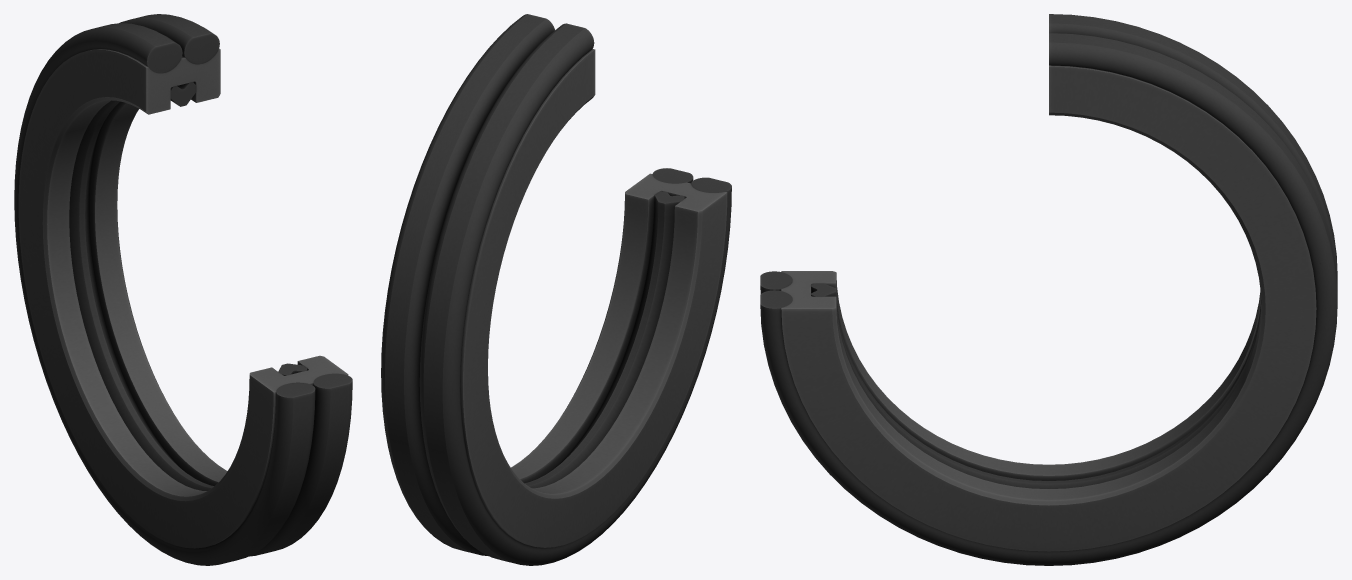
3 renders of one model, left to right at view 1: azimuth 30°, elevation 25°; view 2: azimuth 150°, elevation 25°; view 3: azimuth 270°, elevation 25°, orthographic. The views are drawn at different scales.
Visible parts, largest first — view 1: PR00061_turcon_aq_seal_5_rod; view 2: PR00061_turcon_aq_seal_5_rod; view 3: PR00061_turcon_aq_seal_5_rod.
Boxes of the visible parts, bbox=[...] form: PR00061_turcon_aq_seal_5_rod: bbox=[14, 14, 352, 565]; PR00061_turcon_aq_seal_5_rod: bbox=[381, 14, 731, 565]; PR00061_turcon_aq_seal_5_rod: bbox=[760, 14, 1337, 565].
Bounding box in the file's own units: 0.0311 × 0.199 × 0.199.
Materials: 1 (1 with a texture image).
